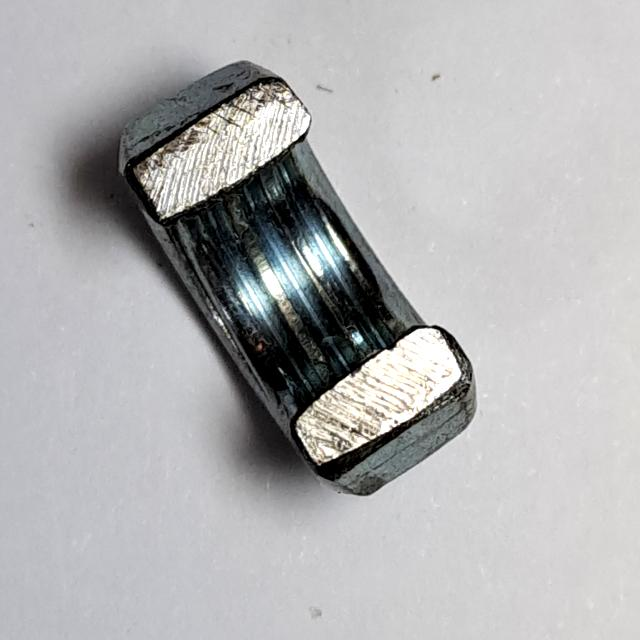Side-Fracture: (109, 44, 496, 505)
